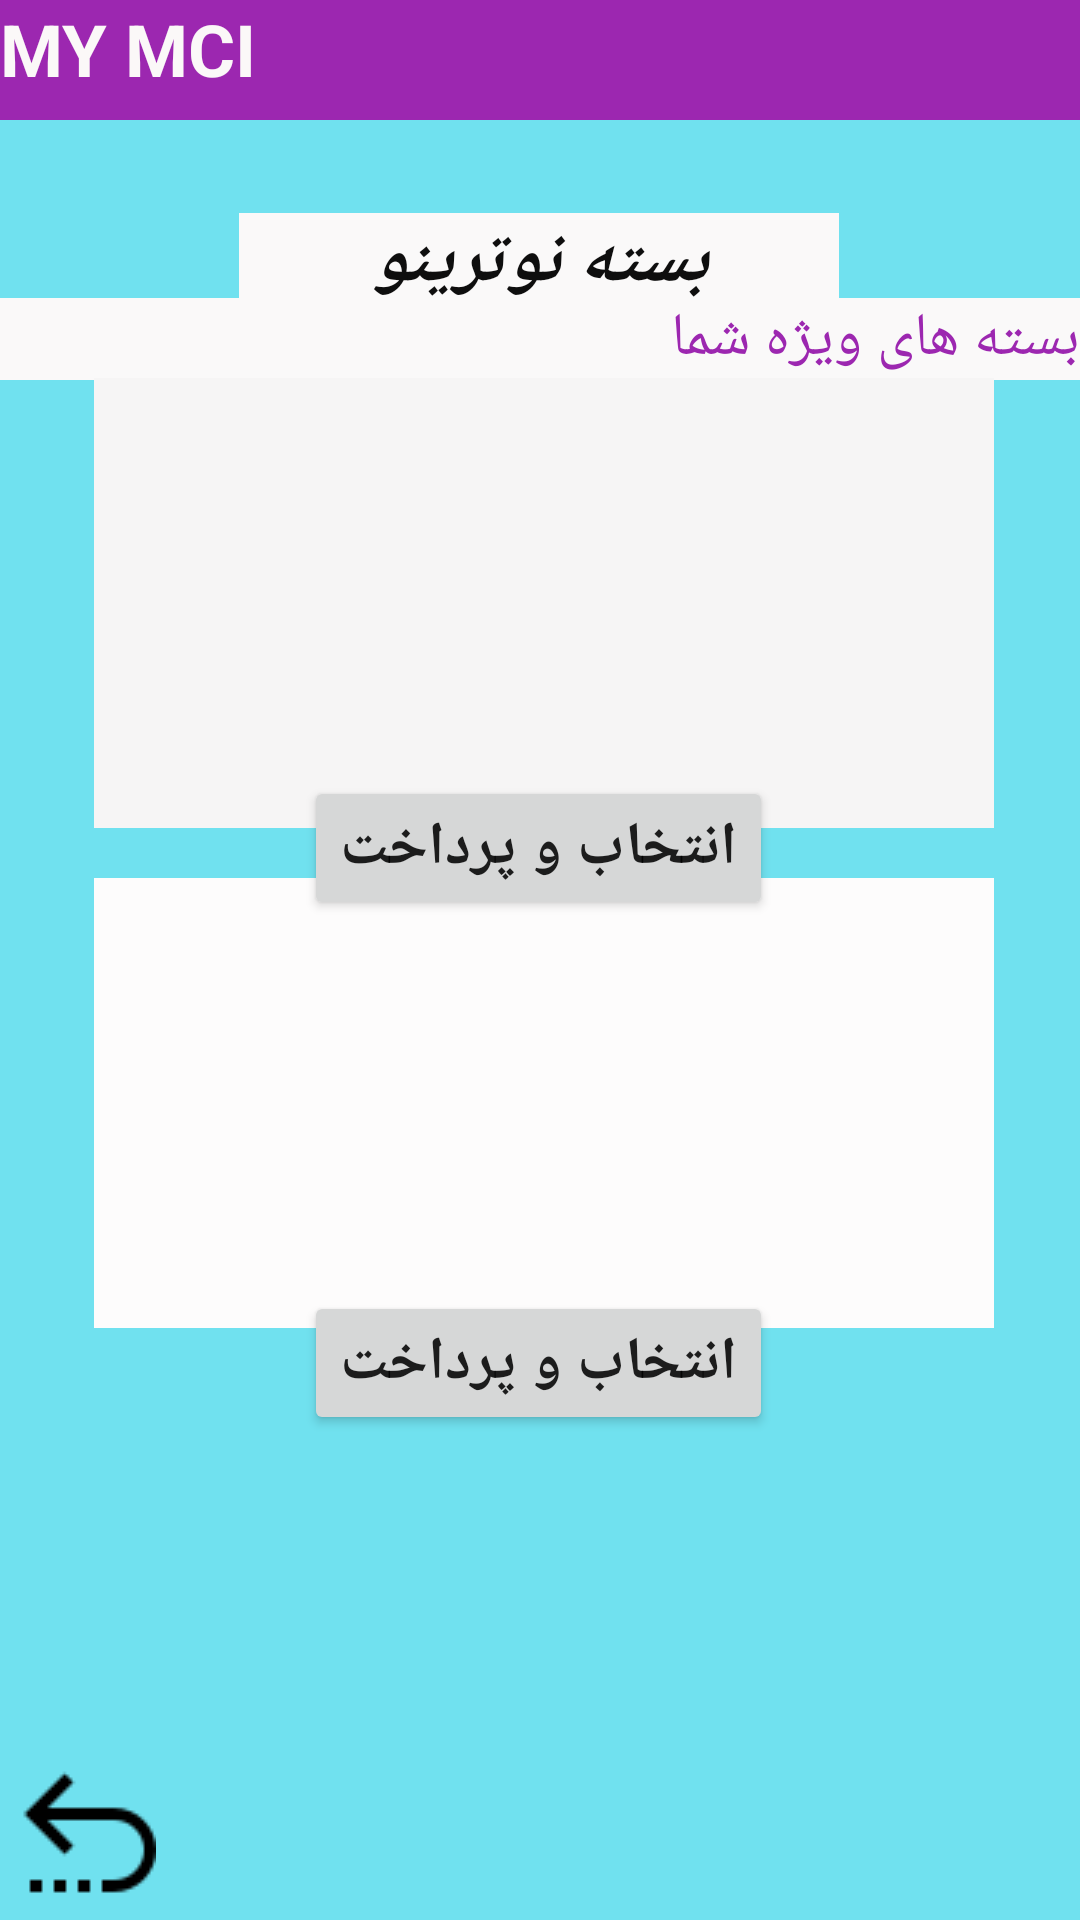

Icons on this 1080×1920 Android screen, each with the point to tap as point (x, y):
return: point (89, 1832)
